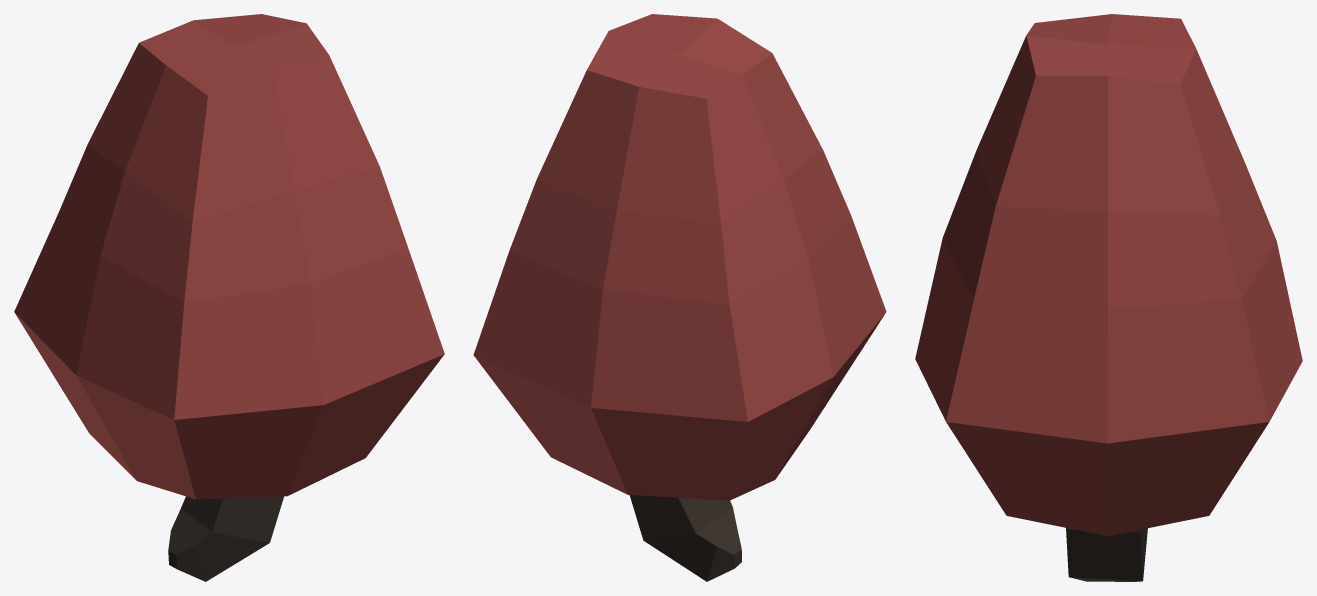
File: cashewApple.fbx
The picture shows the model from 3 angles, left to right: view 1: azimuth 30°, elevation 25°; view 2: azimuth 150°, elevation 25°; view 3: azimuth 270°, elevation 25°; orthographic projection. The views are drawn at different scales.
Visible parts, largest first — view 1: cashewApple; view 2: cashewApple; view 3: cashewApple.
Part boxes in pixels (x1,y1,x2,y2): cashewApple: (14,14,444,581); cashewApple: (473,14,886,581); cashewApple: (915,14,1302,581).
Size of the model in its own units: 9.3 by 14.83 by 9.18.
Materials: 1 (1 with a texture image).
